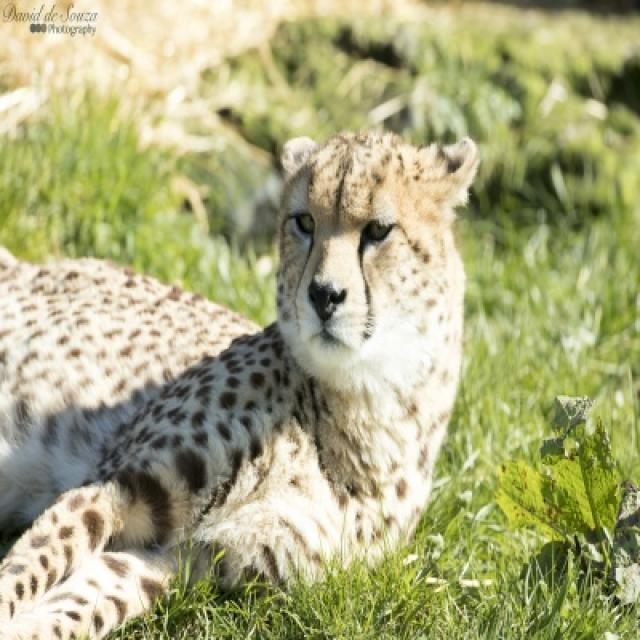Cheetah: (0, 132, 480, 637)
